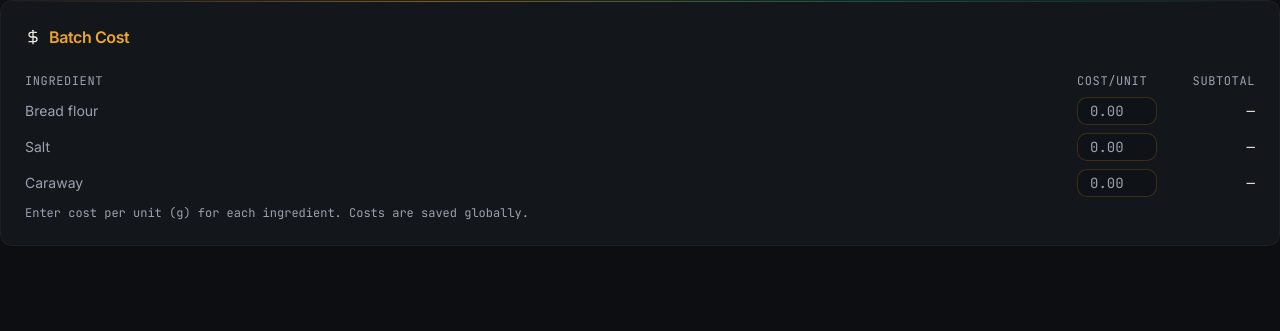
it: recovers from damaged prices and remembers independent ingredient costs across batches
The image size is (1280, 331).
Later steps or results of the test are not shown.
Check: the text "Total cost" is not shown
Type "0.004" into the number field with placeholder "0.00" in the row of "Bread flour".
click(1117, 111); type("0.004")  # box left=1077, top=97, right=1157, bottom=125
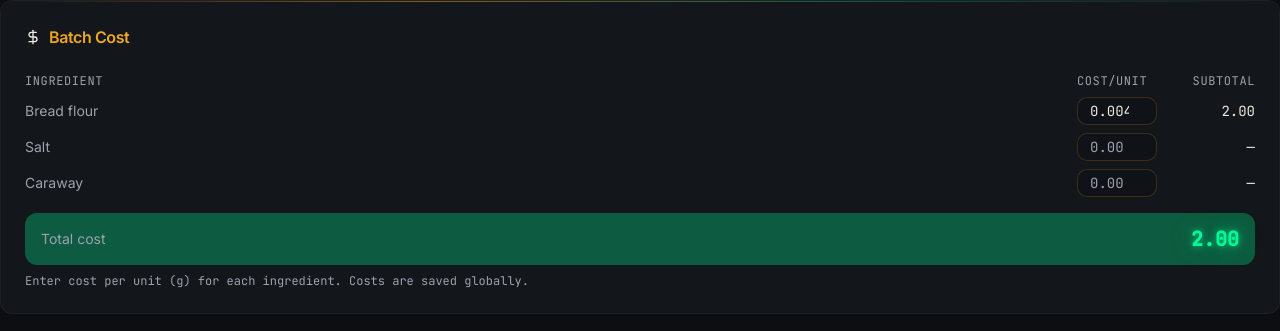
Type "0.03" into the number field with placeholder "0.00" in the row of "Salt".
click(1117, 147); type("0.03")  # box left=1077, top=133, right=1157, bottom=161
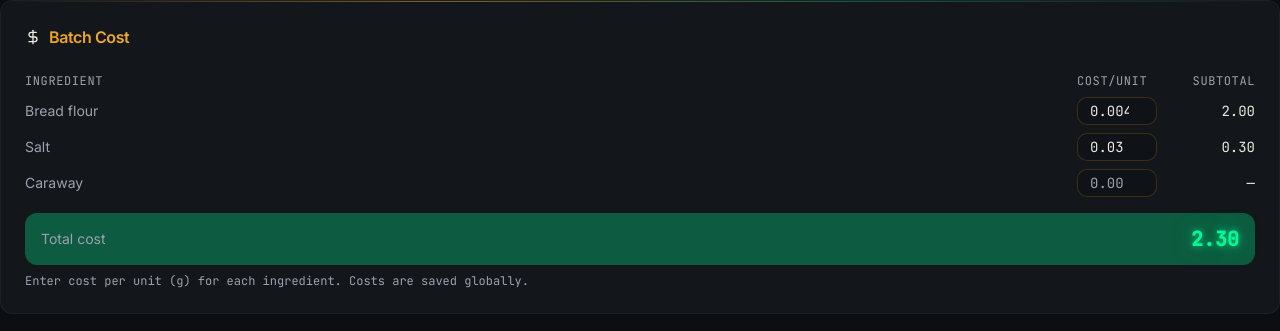
Type "0.50" into the number field with placeholder "0.00".
click(1117, 183); type("0.50")  # box left=1077, top=169, right=1157, bottom=197
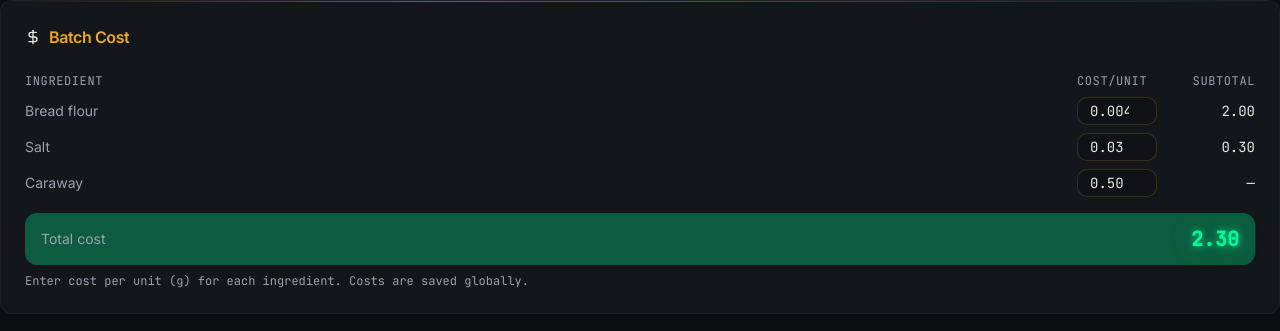
Check: the text "2.30" is shown, box left=1191, top=225, right=1239, bottom=253
